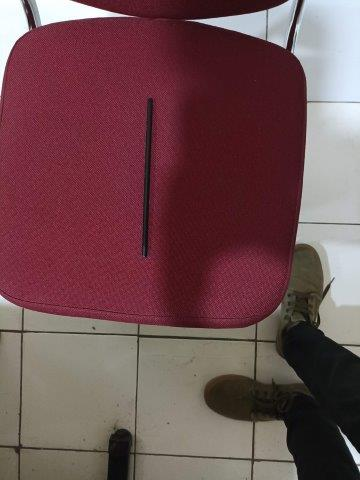sedotan: (142, 98, 152, 257)
